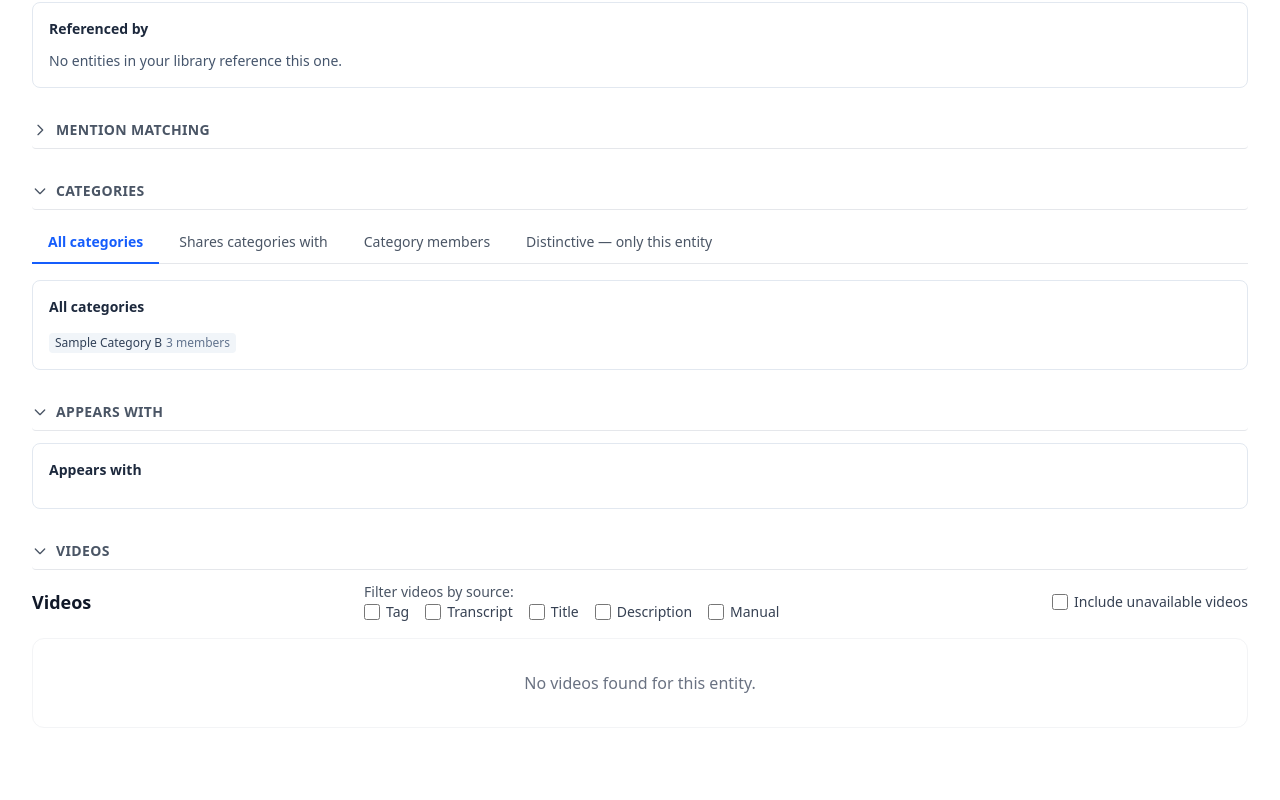
Scenario: EntityDetailPage › Accordion groups (Feature 089) › grouping › collapses and expands each group independently
(page scrolled)
Click the button "Appears with": (110, 412) left=32, top=394, right=1248, bottom=431
(page scrolled)
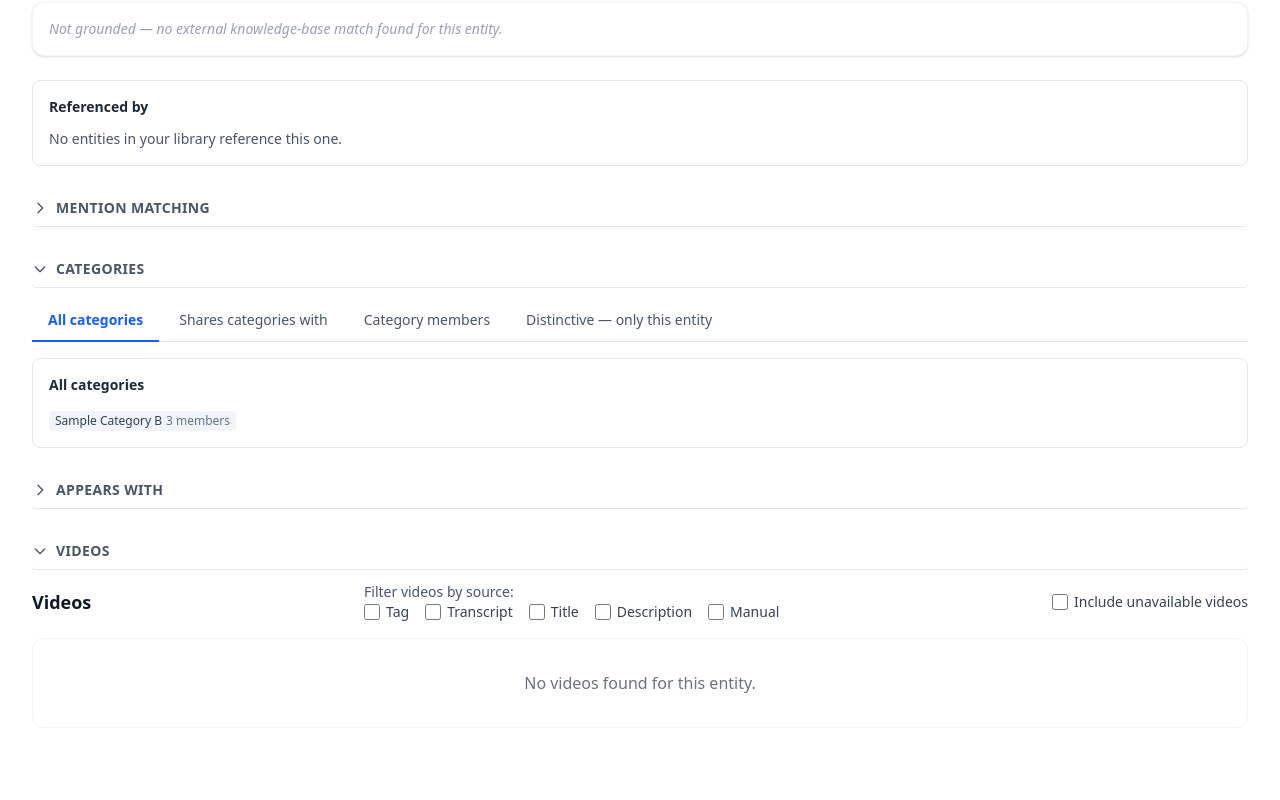
Expected: the button "Appears with" is collapsed
Click the button "Appears with": (110, 490) left=32, top=472, right=1248, bottom=509
(page scrolled)
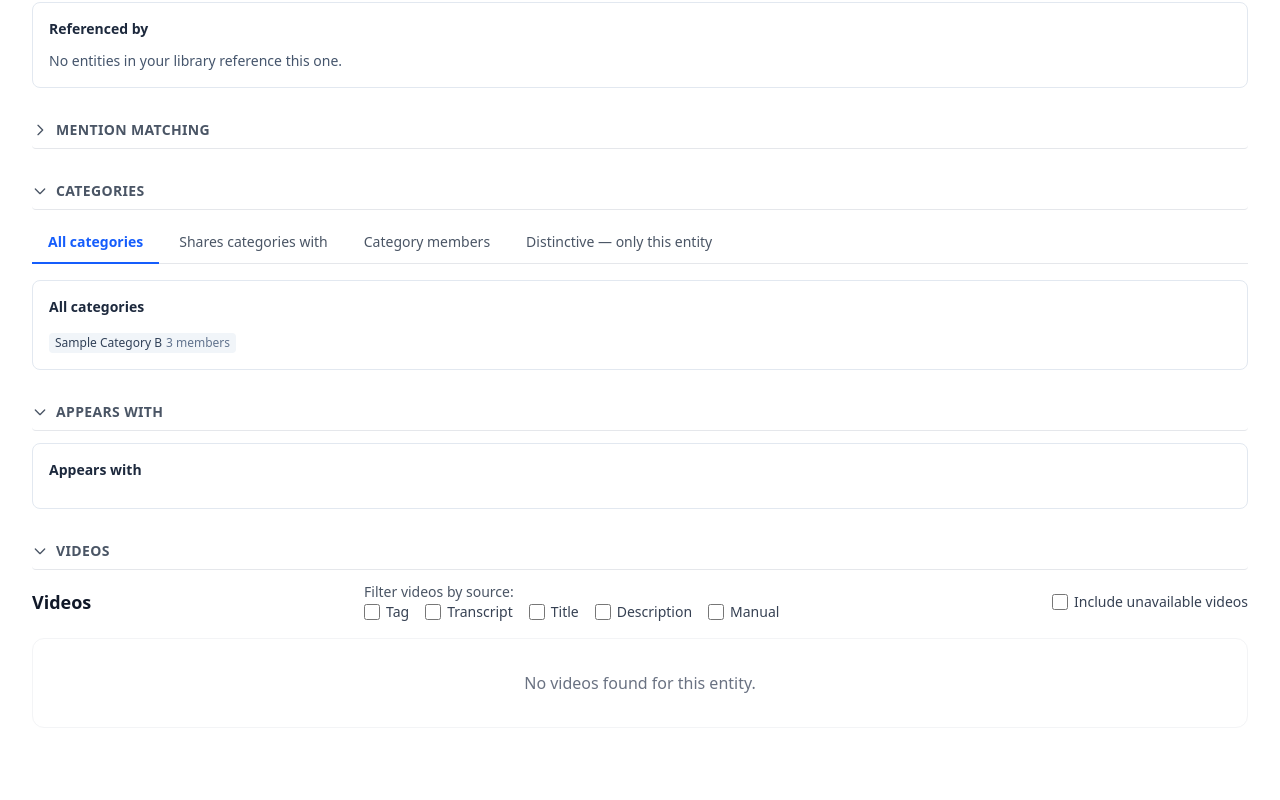
Expected: the button "Appears with" is expanded, left=32, top=394, right=1248, bottom=431
